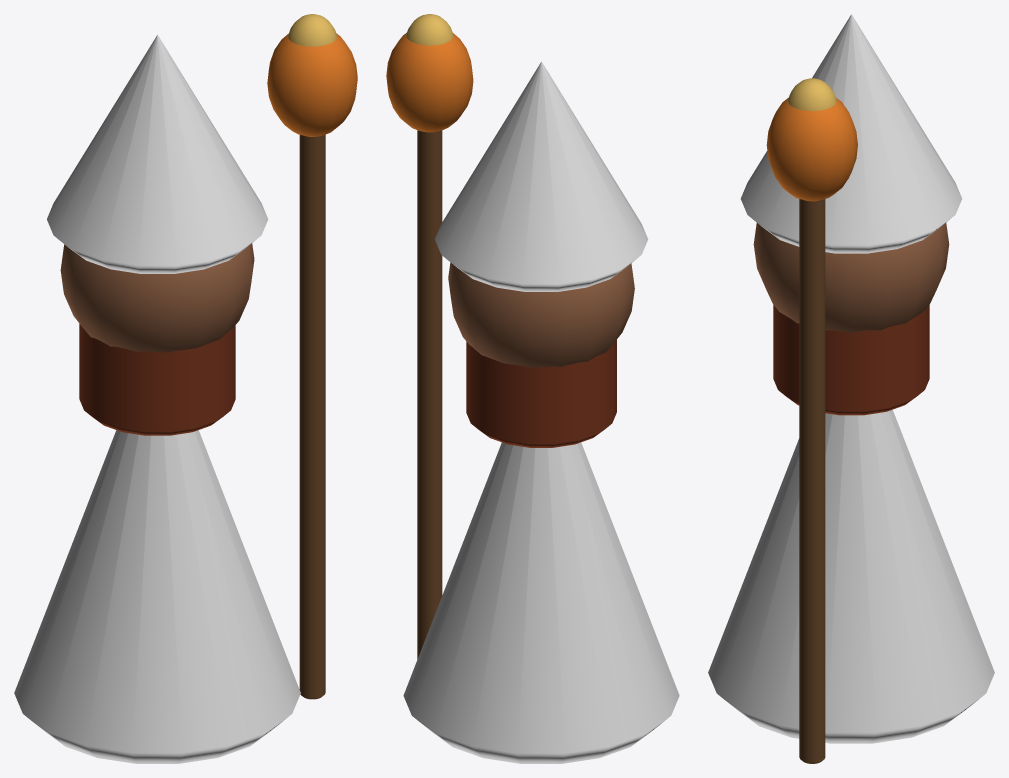
The model's file is ember.77579897.glb.
3 views of the same model, side by side, from view 1: azimuth 30°, elevation 25°; view 2: azimuth 150°, elevation 25°; view 3: azimuth 270°, elevation 25° (orthographic). The views are drawn at different scales.
Visible parts, largest first — view 1: accent, body; view 2: accent, body; view 3: accent, body.
Boxes of the visible parts, bbox=[...] form: accent: bbox=[14, 35, 300, 763]; body: bbox=[60, 14, 357, 699]; accent: bbox=[403, 61, 679, 763]; body: bbox=[386, 14, 634, 658]; accent: bbox=[708, 14, 994, 743]; body: bbox=[753, 78, 949, 763].
Size of the model in its own units: 0.5267 by 1.15 by 0.44.
